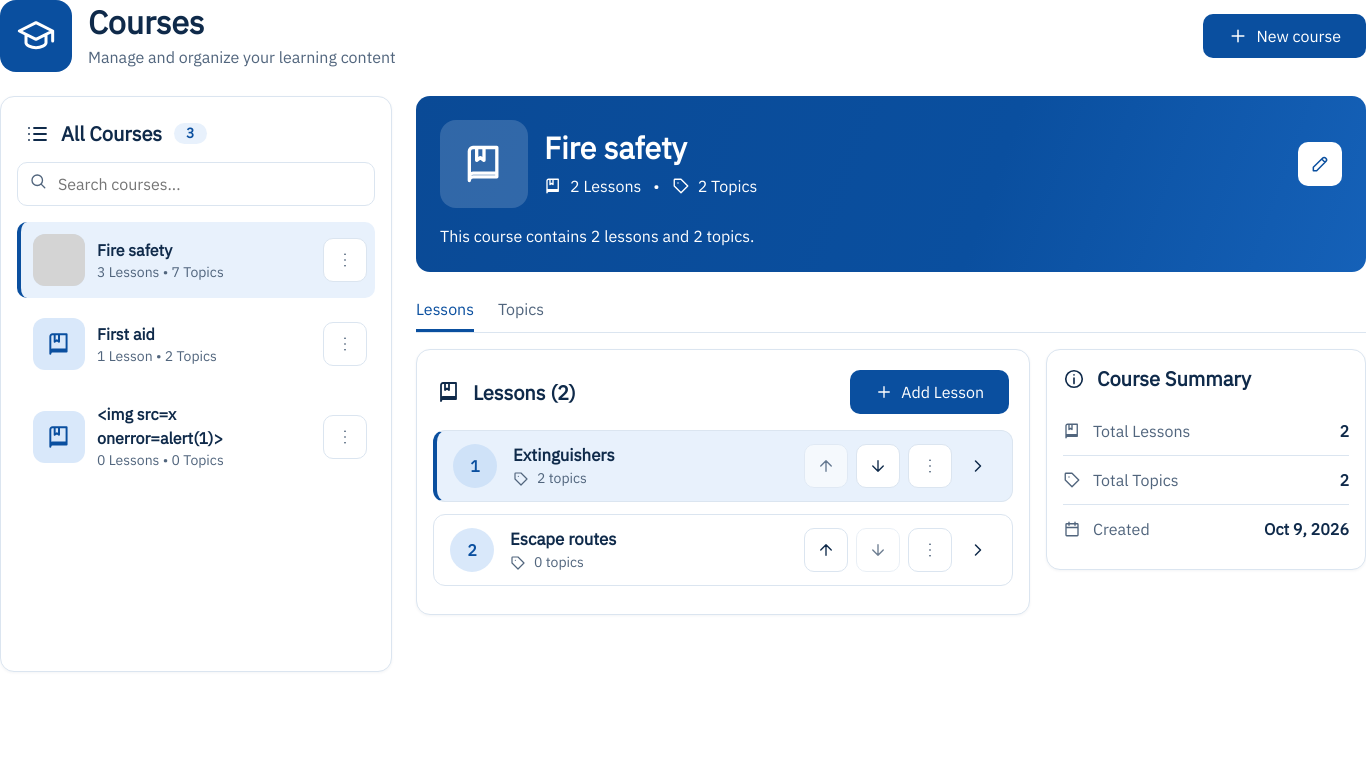
CoursesPage › adds a lesson to the course that is shown
Click the button "Add Lesson" at (930, 392), box [850,370,1009,414]
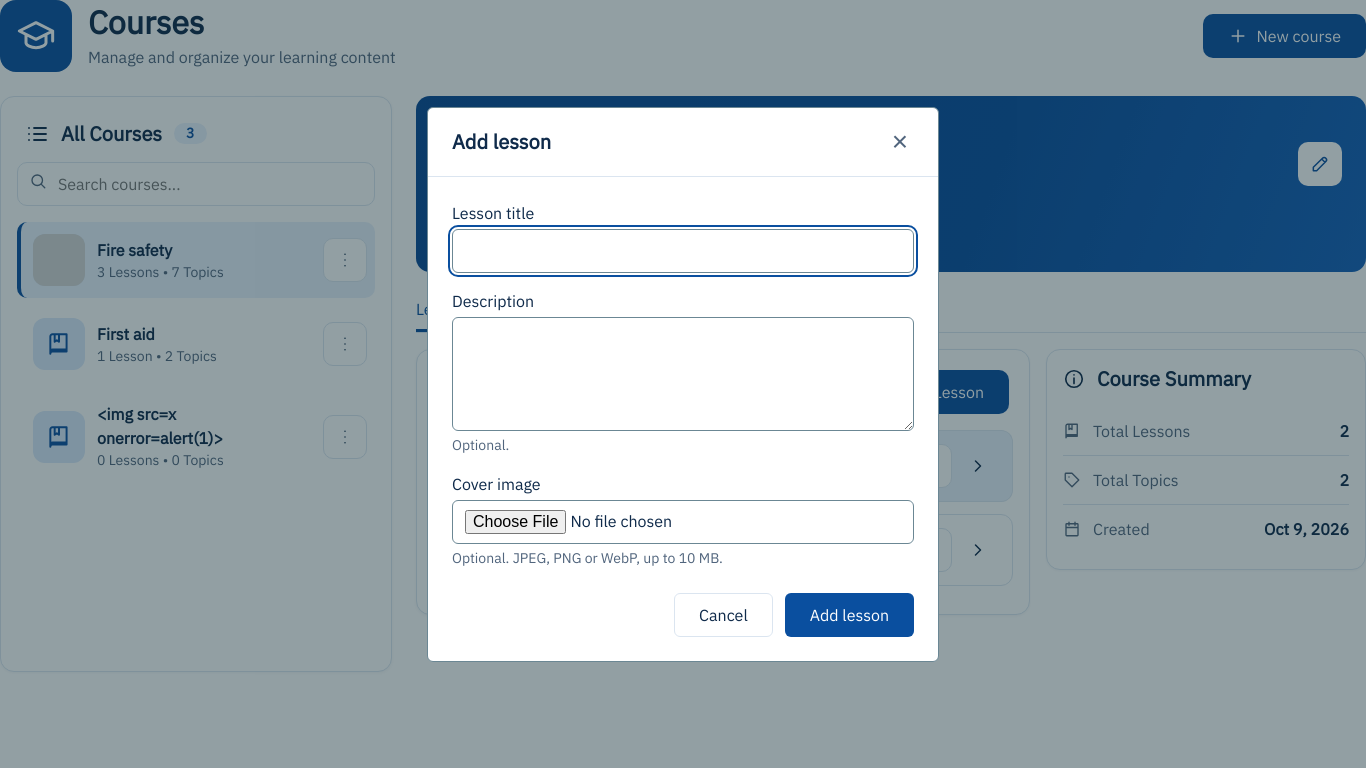
Type "Drills" into the field labelled "Lesson title" at (683, 250), box [452,228,914,272]
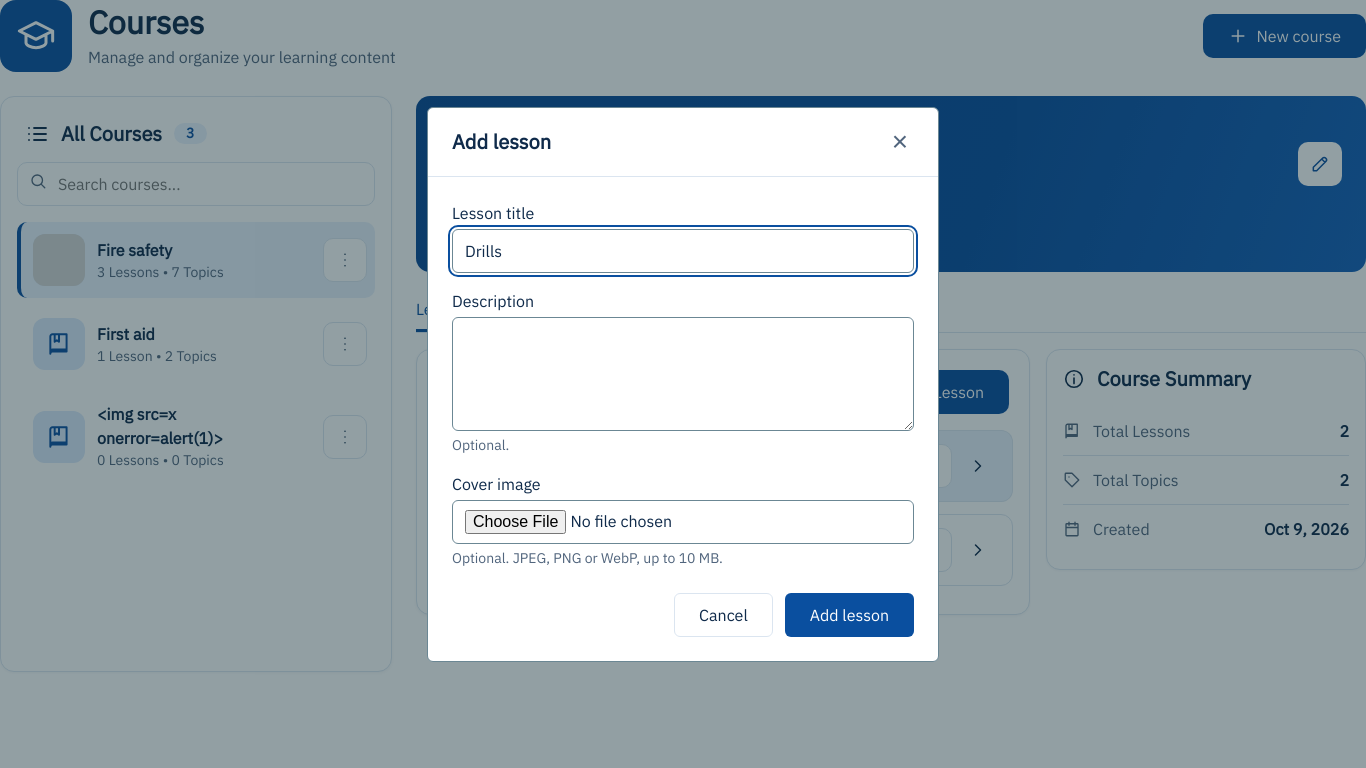
Click the button "Add lesson" at (849, 614), box [785,592,914,636]
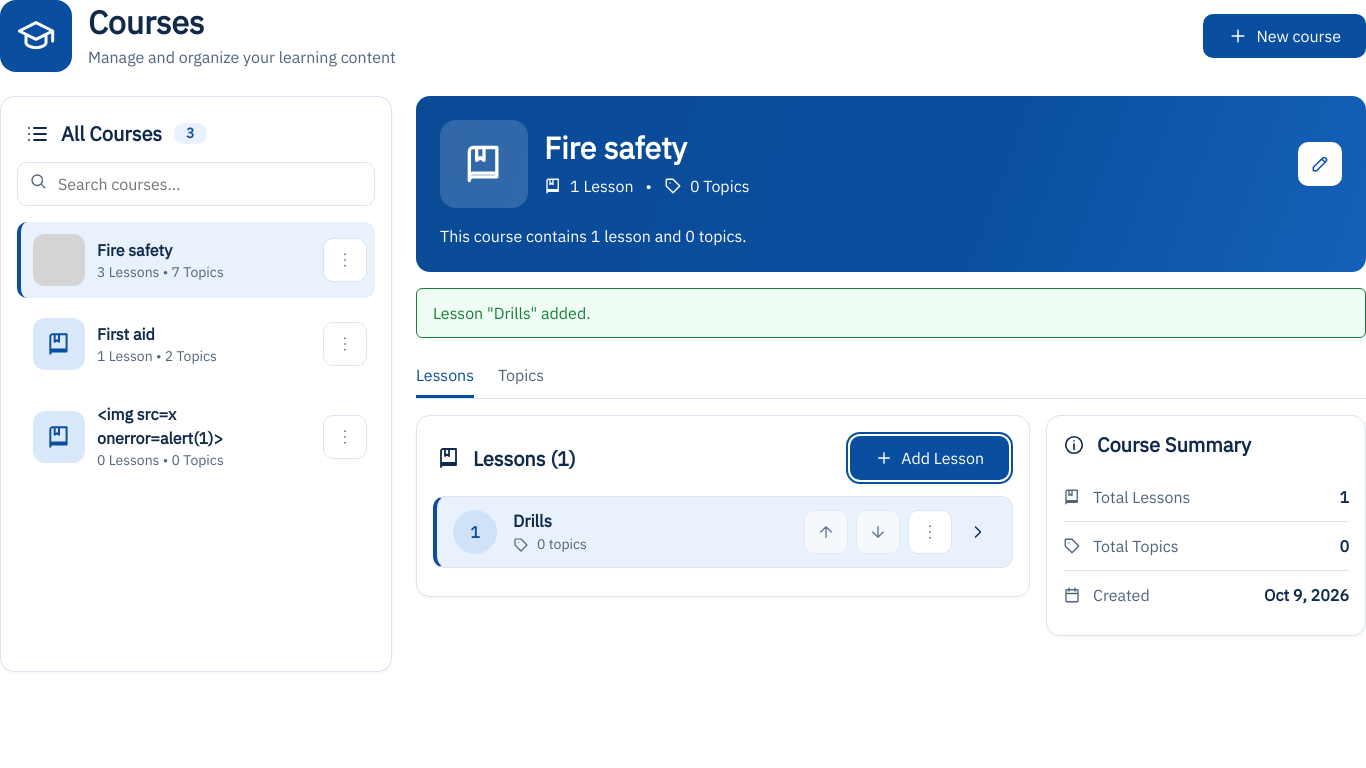
Expected: the text "Lesson \"Drills\" added." is shown, [416,288,1365,338]
